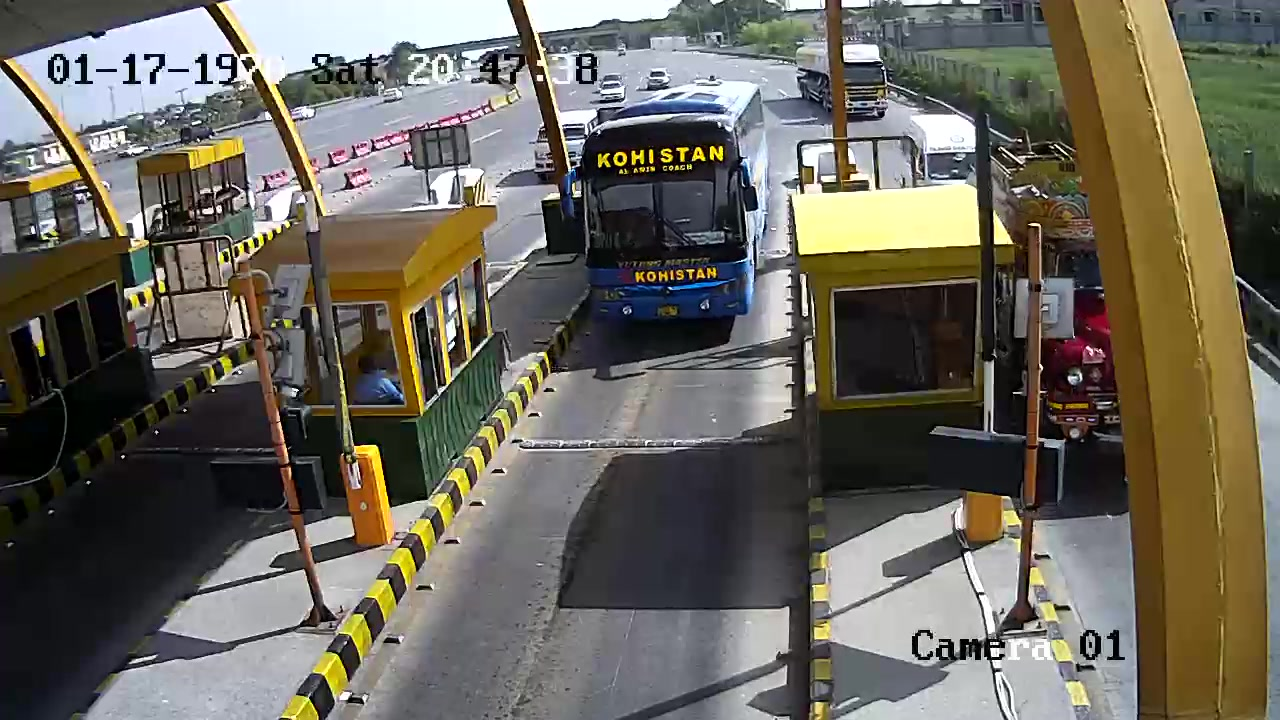F4: (587, 79, 767, 330)
